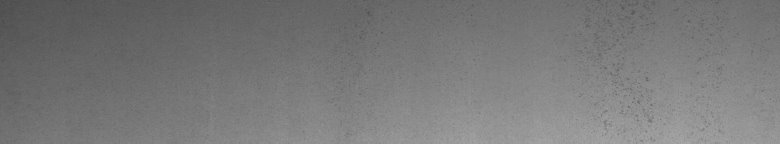ib: (604, 4, 654, 128)
